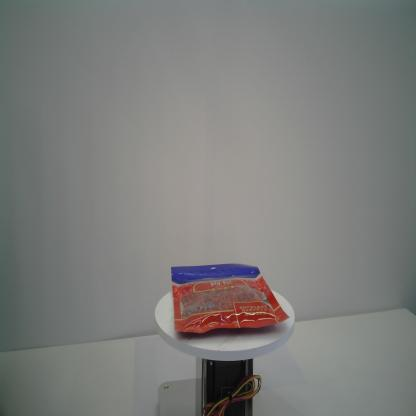Dried Fruit: (171, 262, 290, 334)
